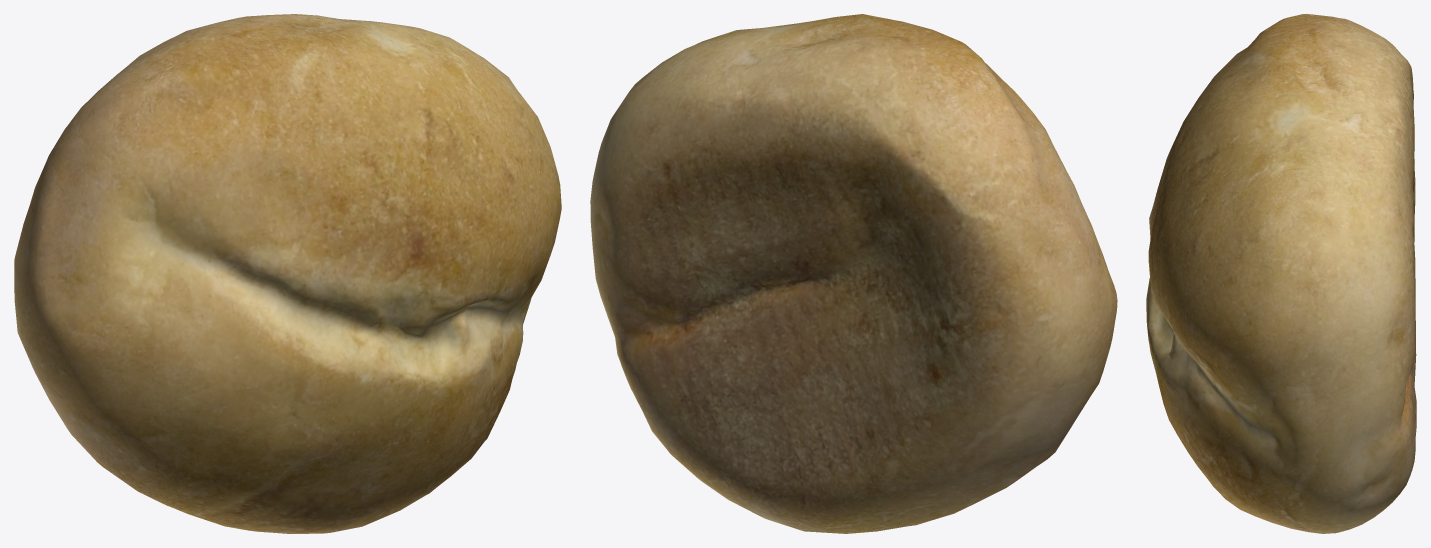
File: burger_bun02.glb
The picture shows the model from 3 angles, left to right: view 1: azimuth 30°, elevation 25°; view 2: azimuth 150°, elevation 25°; view 3: azimuth 270°, elevation 25°; orthographic projection. The views are drawn at different scales.
Parts seen in each view (by area): view 1: hamburger_buns_02; view 2: hamburger_buns_02; view 3: hamburger_buns_02.
Boxes of the visible parts, <box> form: hamburger_buns_02: <box>14,14,561,533</box>; hamburger_buns_02: <box>590,14,1117,533</box>; hamburger_buns_02: <box>1146,14,1416,533</box>.
Bounding box in the file's own units: 0.1108 × 0.1059 × 0.0578.
1 material, 1 textured.
